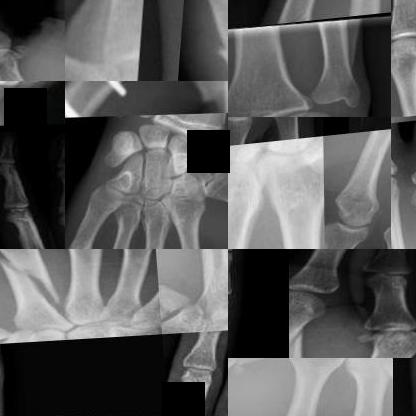fracture: (0, 249, 67, 310), (65, 81, 146, 118), (154, 272, 191, 323), (290, 319, 328, 357), (228, 358, 288, 375), (310, 105, 367, 116), (214, 28, 227, 73), (67, 235, 111, 248)
